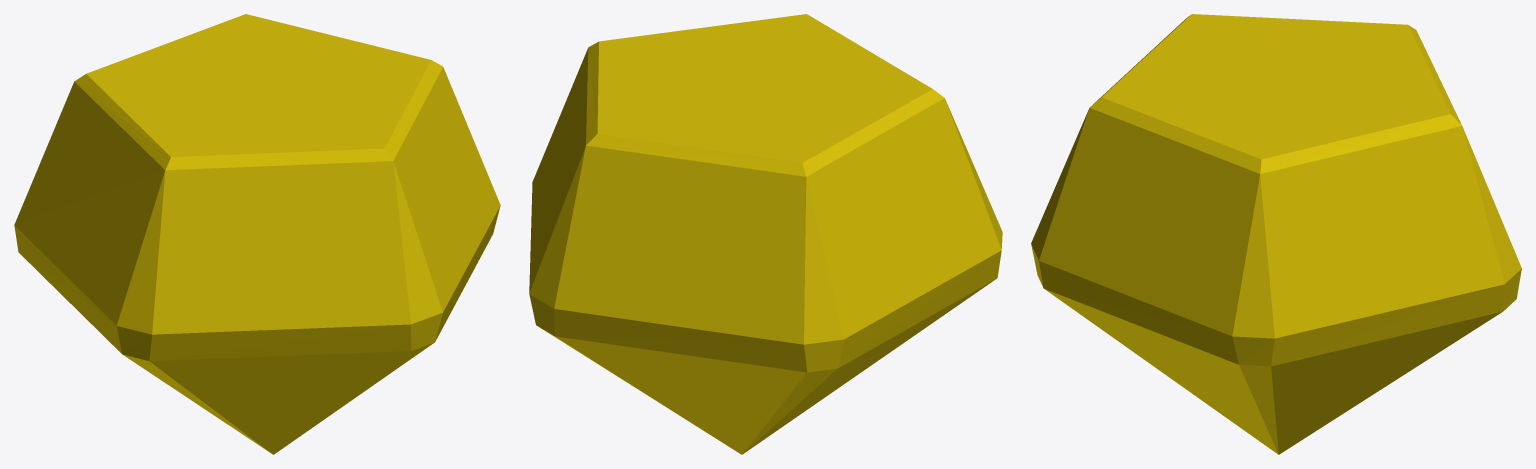
The model's file is Yellow Gem.obj.
The picture shows the model from 3 angles, left to right: view 1: azimuth 30°, elevation 25°; view 2: azimuth 150°, elevation 25°; view 3: azimuth 270°, elevation 25°; orthographic projection.
Visible parts, largest first — view 1: YellowGem; view 2: YellowGem; view 3: YellowGem.
Part boxes in pixels (x1,y1,x2,y2): YellowGem: (14, 14, 500, 454); YellowGem: (529, 14, 1002, 454); YellowGem: (1031, 14, 1521, 454).
Bounding box in the file's own units: 4.83 × 4.06 × 4.89.
1 material, 1 textured.
